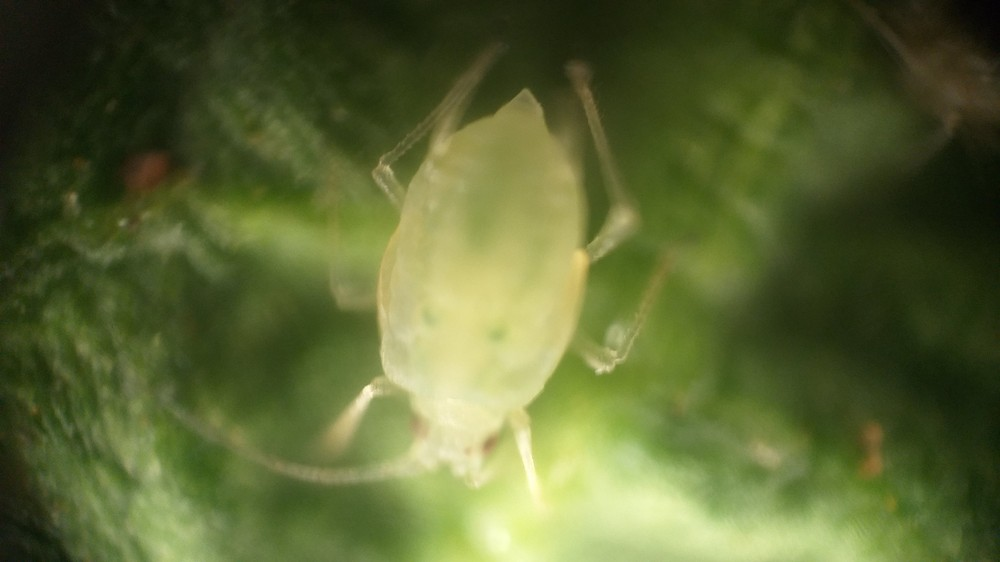Pulgon: (212, 19, 699, 556)
